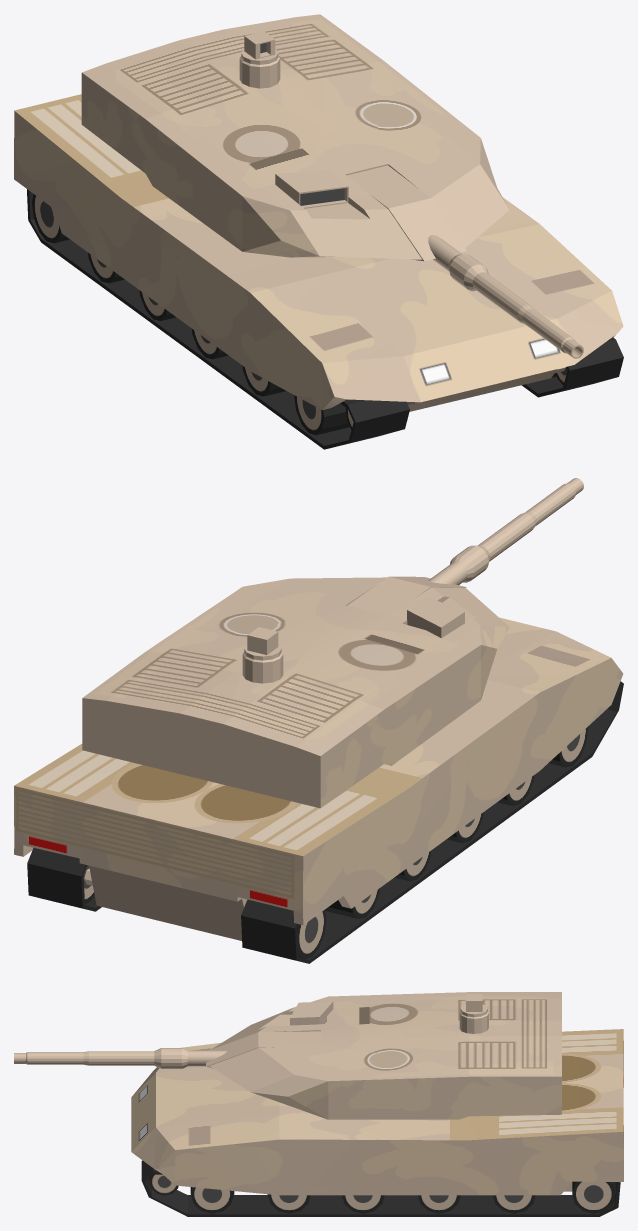
The model's file is Tank_02.fbx.
3 renders of one model, top to bottom at view 1: azimuth 30°, elevation 25°; view 2: azimuth 150°, elevation 25°; view 3: azimuth 270°, elevation 25°, orthographic. The views are drawn at different scales.
Visible parts, largest first — view 1: Tank_02_Body, Tank_02_UpperBody, Tank_02_Chain, Tank_02_MainGunBody, Tank_02_MainGun, Tank_02_Chain02, Tank_02_Wheel14, Tank_02_Wheel04; view 2: Tank_02_Body, Tank_02_UpperBody, Tank_02_Chain, Tank_02_MainGun, Tank_02_Chain02, Tank_02_MainGunBody, Tank_02_Wheel04, Tank_02_Wheel14, Tank_02_Wheel02; view 3: Tank_02_Body, Tank_02_UpperBody, Tank_02_Chain02, Tank_02_MainGun, Tank_02_MainGunBody, Tank_02_Wheel03, Tank_02_Wheel11, Tank_02_Wheel09, Tank_02_Wheel05, Tank_02_Wheel07, Tank_02_Wheel01, Tank_02_Wheel12.
Part boxes in pixels (x1=…): Tank_02_Body: x1=14, y1=94, x2=623, y2=411; Tank_02_UpperBody: x1=81, y1=14, x2=509, y2=259; Tank_02_Chain: x1=27, y1=189, x2=409, y2=449; Tank_02_MainGunBody: x1=347, y1=165, x2=466, y2=261; Tank_02_MainGun: x1=428, y1=235, x2=583, y2=358; Tank_02_Chain02: x1=522, y1=337, x2=623, y2=397; Tank_02_Wheel14: x1=294, y1=395, x2=349, y2=435; Tank_02_Wheel04: x1=32, y1=194, x2=69, y2=243; Tank_02_Body: x1=14, y1=617, x2=623, y2=940; Tank_02_UpperBody: x1=82, y1=577, x2=509, y2=808; Tank_02_Chain: x1=241, y1=681, x2=623, y2=963; Tank_02_MainGun: x1=428, y1=478, x2=583, y2=585; Tank_02_Chain02: x1=27, y1=847, x2=101, y2=911; Tank_02_MainGunBody: x1=347, y1=576, x2=466, y2=615; Tank_02_Wheel04: x1=297, y1=910, x2=326, y2=958; Tank_02_Wheel14: x1=548, y1=726, x2=588, y2=767; Tank_02_Wheel02: x1=325, y1=888, x2=379, y2=918; Tank_02_Body: x1=131, y1=1029, x2=623, y2=1195; Tank_02_UpperBody: x1=210, y1=992, x2=561, y2=1119; Tank_02_Chain02: x1=141, y1=1160, x2=620, y2=1216; Tank_02_MainGun: x1=14, y1=1048, x2=226, y2=1068; Tank_02_MainGunBody: x1=206, y1=1031, x2=320, y2=1068; Tank_02_Wheel03: x1=572, y1=1181, x2=615, y2=1213; Tank_02_Wheel11: x1=190, y1=1187, x2=234, y2=1213; Tank_02_Wheel09: x1=267, y1=1194, x2=310, y2=1213; Tank_02_Wheel05: x1=342, y1=1195, x2=384, y2=1213; Tank_02_Wheel07: x1=418, y1=1195, x2=460, y2=1213; Tank_02_Wheel01: x1=493, y1=1195, x2=535, y2=1213; Tank_02_Wheel12: x1=149, y1=1174, x2=178, y2=1195.
Size of the model in its own units: 49.53 by 38.41 by 124.
